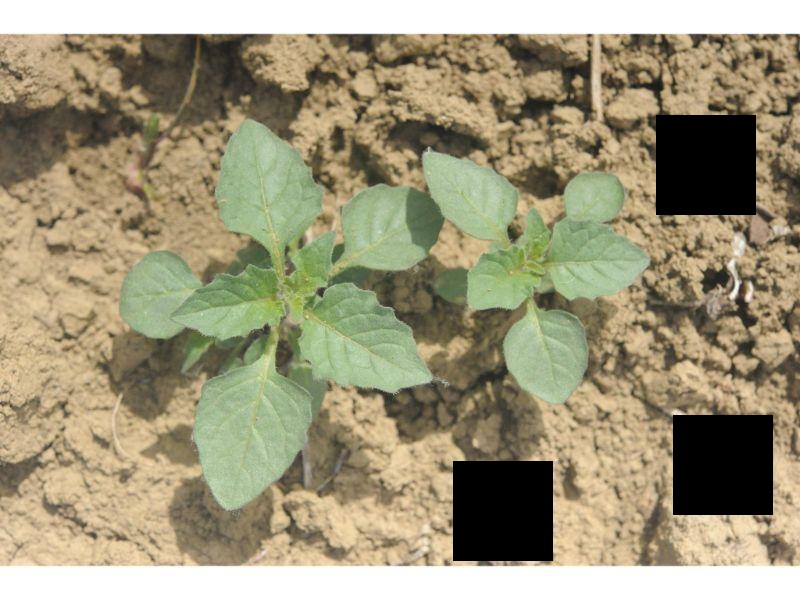nightshade: (119, 117, 441, 507), (423, 148, 649, 403)
